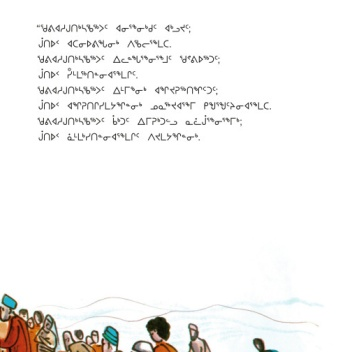inuktitut: (36, 97, 274, 112), (34, 113, 246, 128), (37, 81, 219, 96), (36, 127, 204, 143), (36, 50, 223, 64), (34, 21, 192, 35), (37, 35, 172, 50), (36, 65, 140, 81)
